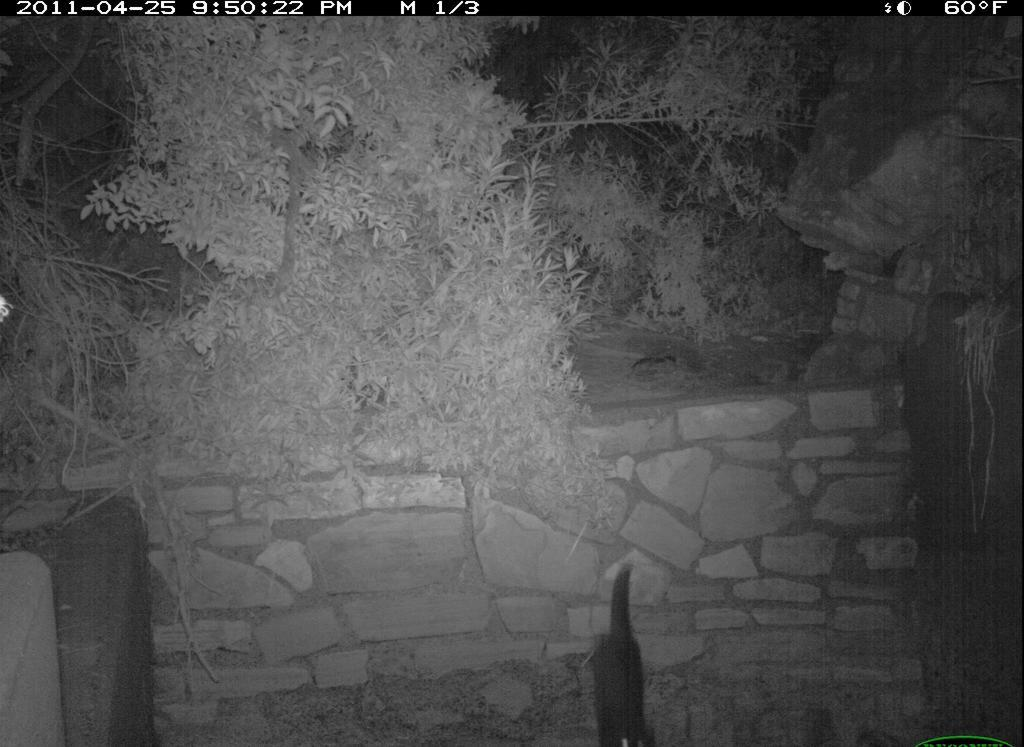cat: (580, 555, 697, 747)
